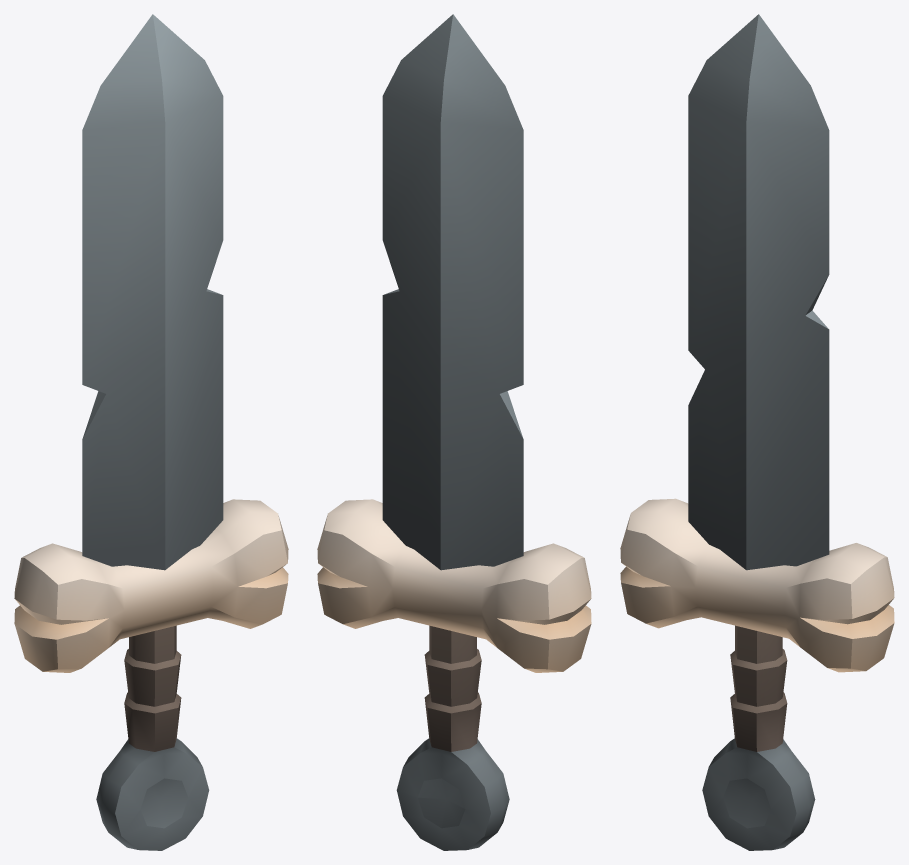
The model's file is Character_Weapon.fbx.
The picture shows the model from 3 angles, left to right: view 1: azimuth 30°, elevation 25°; view 2: azimuth 150°, elevation 25°; view 3: azimuth 330°, elevation 25°; orthographic projection.
Parts seen in each view (by area): view 1: equipment_20000; view 2: equipment_20000; view 3: equipment_20000.
Part boxes in pixels (bbox=[...]): equipment_20000: bbox=[14, 14, 288, 850]; equipment_20000: bbox=[317, 14, 591, 850]; equipment_20000: bbox=[620, 14, 894, 850].
Size of the model in its own units: 0.3845 by 1.2 by 0.1292.
